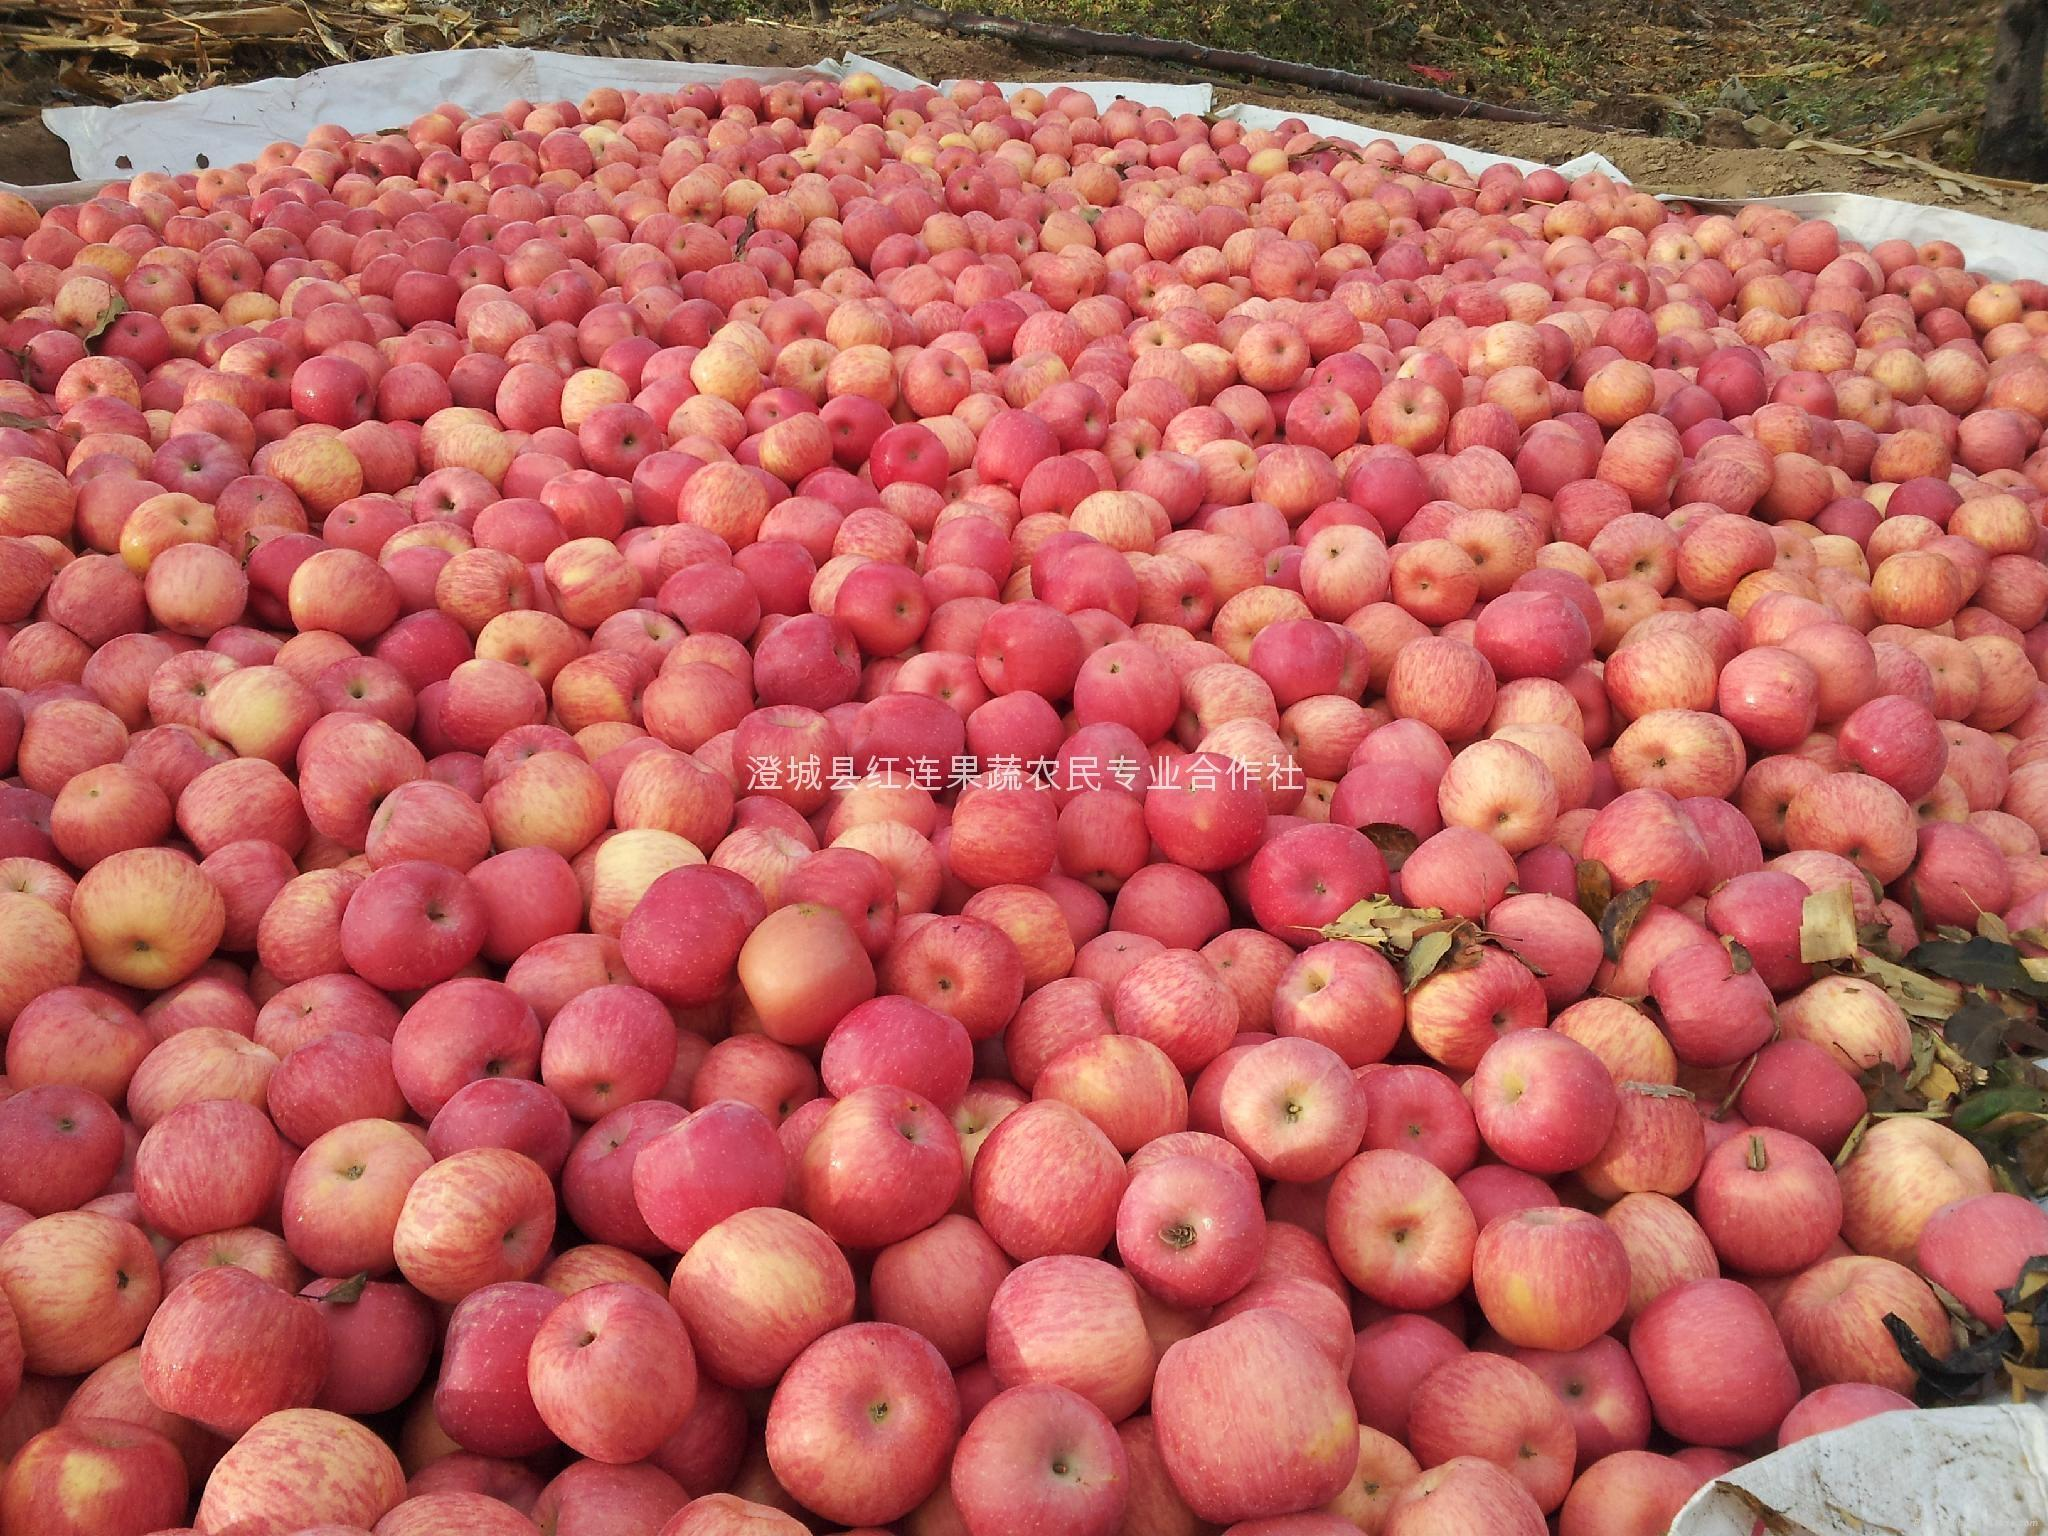apple: (1151, 1310, 1363, 1520), (763, 1317, 961, 1521), (664, 1204, 855, 1389), (132, 1270, 331, 1439), (529, 1284, 703, 1463), (795, 1083, 963, 1254), (1634, 1284, 1798, 1454), (1409, 1350, 1579, 1513), (950, 1379, 1126, 1536), (992, 1255, 1150, 1418), (1324, 1149, 1479, 1310), (392, 1147, 555, 1299), (976, 1099, 1126, 1260), (1469, 1205, 1634, 1350), (1113, 1152, 1266, 1307), (69, 845, 229, 992), (1698, 1126, 1846, 1283), (1843, 1117, 1992, 1271), (284, 1118, 429, 1275), (1471, 1028, 1622, 1173), (390, 975, 540, 1120), (635, 1102, 792, 1241), (1218, 1034, 1366, 1176), (131, 1094, 281, 1229), (739, 905, 880, 1047), (622, 862, 764, 1000), (539, 983, 677, 1120), (339, 865, 484, 986), (1032, 1031, 1185, 1146), (1580, 786, 1719, 912), (1030, 1029, 1184, 1142), (298, 716, 427, 844), (1646, 937, 1777, 1062), (1101, 945, 1238, 1063), (822, 994, 976, 1099), (2, 1087, 129, 1213), (1248, 821, 1385, 936), (6, 987, 145, 1100), (482, 745, 613, 862), (1782, 770, 1919, 879), (1148, 750, 1266, 873), (1279, 944, 1397, 1063), (1437, 741, 1559, 852), (198, 663, 329, 760), (614, 747, 734, 850), (1832, 694, 1946, 800), (176, 753, 302, 850), (848, 689, 963, 794), (732, 707, 847, 812), (1611, 707, 1738, 800), (1716, 644, 1822, 750), (1471, 589, 1592, 682), (1071, 641, 1182, 741), (1388, 639, 1496, 739), (972, 599, 1082, 697), (751, 611, 858, 708), (1600, 631, 1716, 715), (144, 647, 235, 721)
